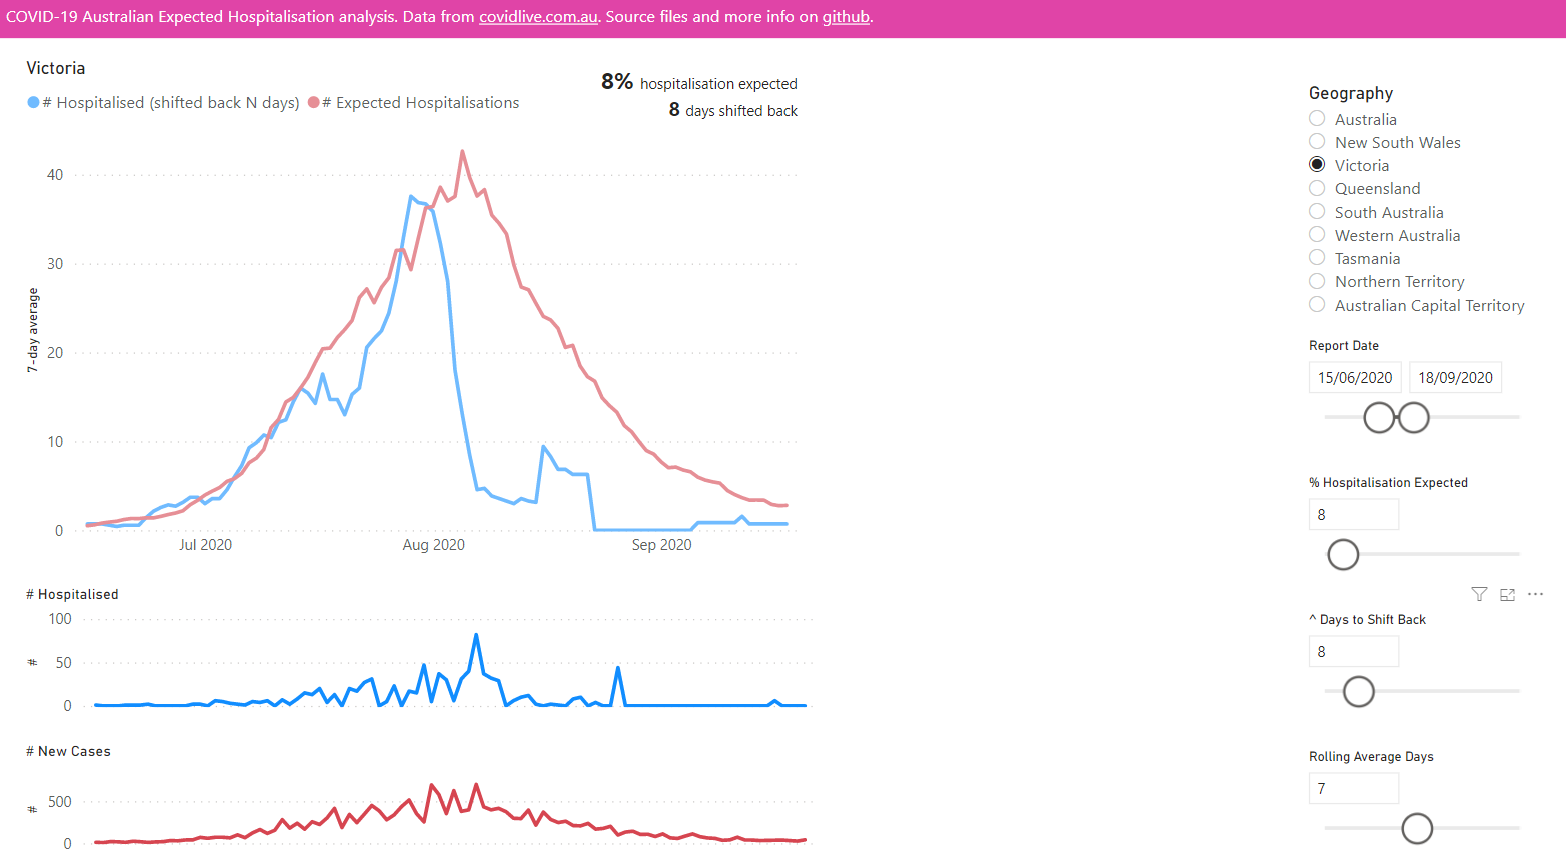

This screenshot's page, from the dashboard's own definition file:
{"tool":"powerbi","page":{"name":"Expected ICU - NSW 2021-06","canvas":[1280,720],"ordinal":10},"visuals":[{"type":"lineChart","fields":{"Category":["covid-live.Report Date"],"Y":["covid-live.# Expected ICU","covid-live.# ICU (N-day average, shifted back N days)"]},"box":[16,48,656,416],"z":0},{"type":"slicer","fields":{"Values":["covid-live.Report Date"]},"box":[1056,272,208,112],"z":1000},{"type":"slicer","fields":{"Values":["% ICU Expected.% ICU Expected"]},"box":[1056,384,208,112],"z":2000},{"type":"lineChart","title":"# New ICU","fields":{"Category":["covid-live.Report Date"],"Y":["covid-live.# New ICU"]},"box":[16,480,656,112],"z":3000},{"type":"lineChart","title":"# New Cases","fields":{"Category":["covid-live.Report Date"],"Y":["covid-live.# New Cases"]},"box":[16,608,656,96],"z":4000},{"type":"slicer","fields":{"Values":["Days to Lag.Days to Lag"]},"box":[1056,496,208,112],"z":5000},{"type":"textbox","box":[0,0,1280,32],"z":6000},{"type":"slicer","fields":{"Values":["Rolling Average Days.Rolling Average Days"]},"box":[1056,608,208,112],"z":7000},{"type":"htmlContent443BE3AD55E043BF878BED274D3A6855","fields":{"content":["covid-live.@ ICU Label"]},"box":[384,48,256,32],"z":8000}]}

Visuals, with their boxes in screenshot pixels (x1, y1, x2, y2), scaled from the page's 1280x720 canvas onto the 1566x864 screenshot:
lineChart - covid-live.Report Date x covid-live.# Expected ICU: region(20, 58, 822, 557)
slicer - covid-live.Report Date: region(1292, 326, 1546, 461)
slicer - % ICU Expected.% ICU Expected: region(1292, 461, 1546, 595)
"# New ICU" lineChart: region(20, 576, 822, 710)
"# New Cases" lineChart: region(20, 730, 822, 845)
slicer - Days to Lag.Days to Lag: region(1292, 595, 1546, 730)
textbox: region(0, 0, 1565, 38)
slicer - Rolling Average Days.Rolling Average Days: region(1292, 730, 1546, 863)
htmlContent443BE3AD55E043BF878BED274D3A6855 - covid-live.@ ICU Label: region(470, 58, 783, 96)
